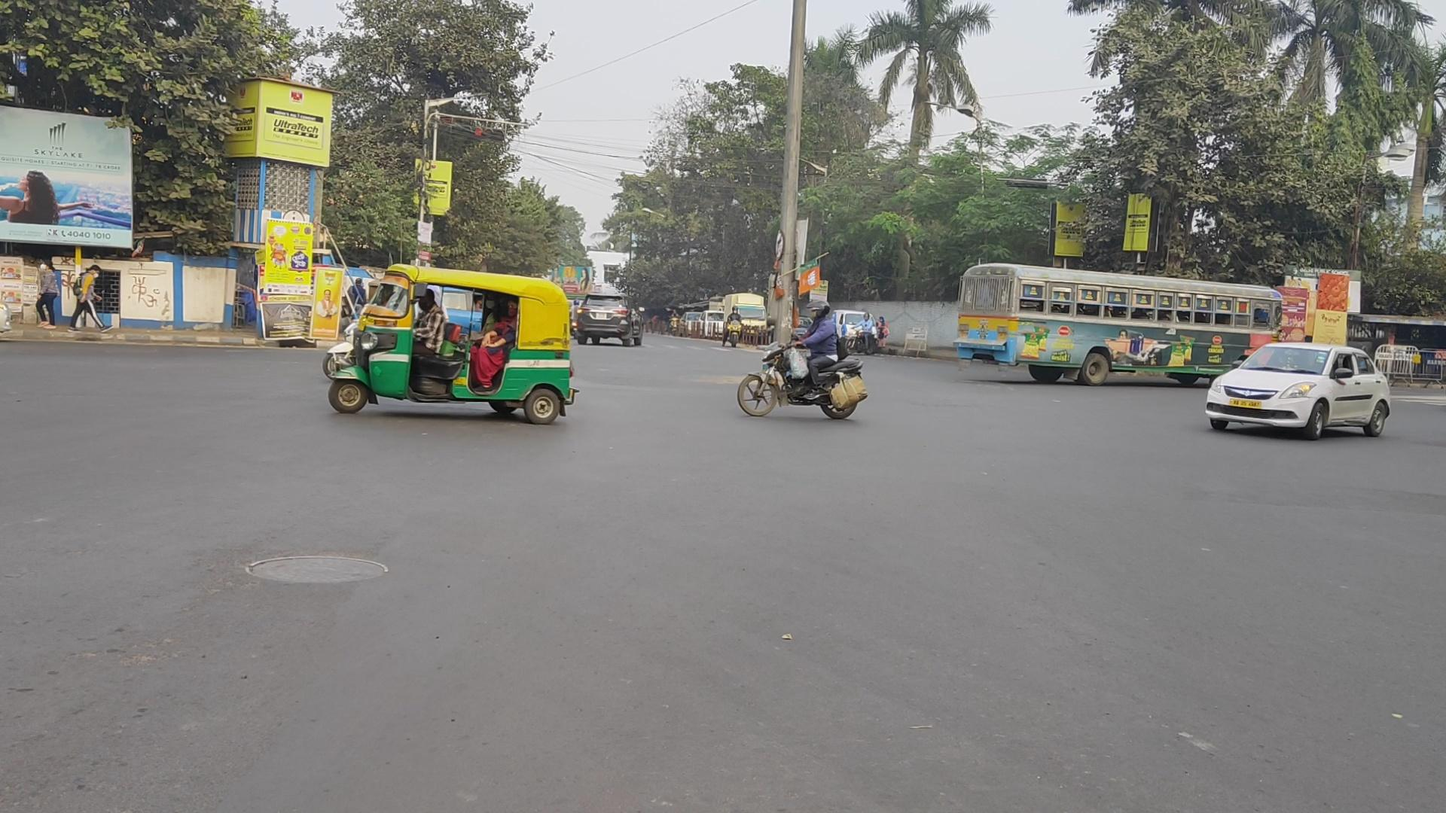Auto: (328, 263, 580, 425)
Bus: (953, 263, 1283, 386)
bike: (738, 300, 868, 419), (846, 312, 880, 355), (722, 306, 744, 348)
car: (1205, 342, 1391, 441), (576, 293, 645, 347), (832, 309, 877, 354), (697, 310, 725, 340), (679, 312, 700, 336)
van: (723, 293, 767, 345)
